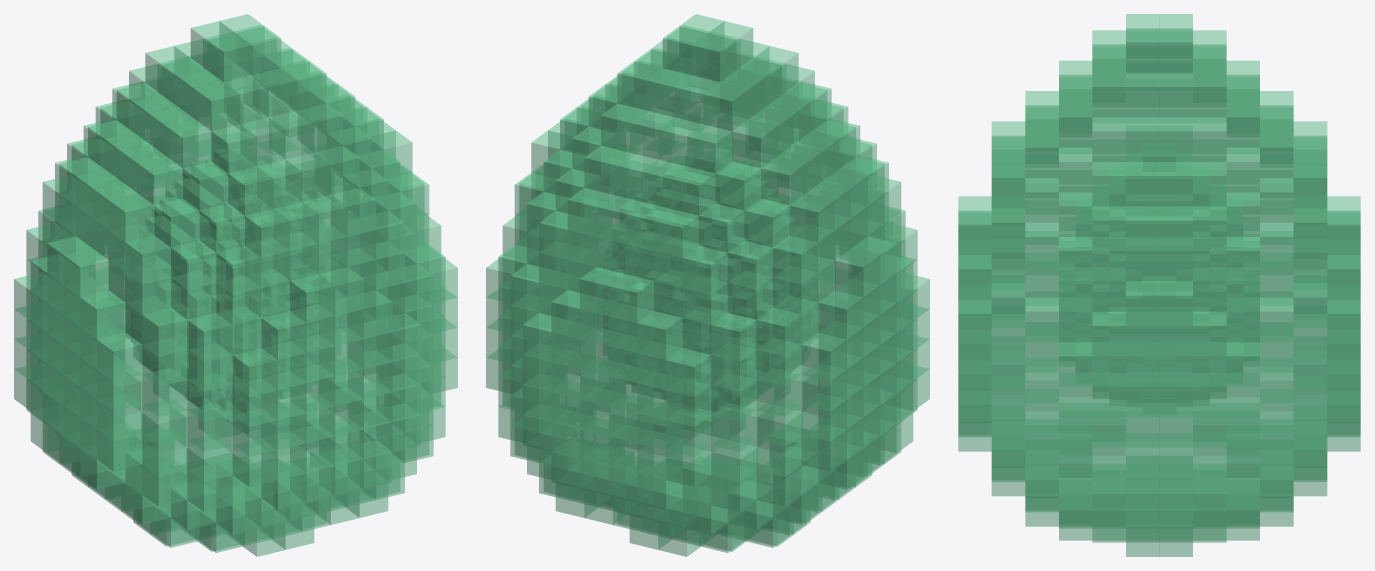
Rendered from Gummy_Egg.glb.
3 views of the same model, side by side, from view 1: azimuth 30°, elevation 25°; view 2: azimuth 150°, elevation 25°; view 3: azimuth 270°, elevation 25° (orthographic).
Visible parts, largest first — view 1: Cube_copy_copy_copy_copy_copy_copy_copy_copy_copy_copy_copy_ (×110), Cube_copy_1, Cube_copy_copy_copy_copy_copy_5, Cube_copy_copy_copy_6, Cube_copy_copy_copy, Cube_copy_4, Cube_copy_copy_copy_9, Cube_copy_copy_copy_2, Cube_copy_copy_copy_copy_copy_copy_copy_copy_copy, Cube_copy_copy_1, Cube_copy_copy_copy_copy, Cube_copy_copy_copy_copy_copy_copy (+91 smaller); view 2: Cube_copy_copy_copy_copy_copy_copy_copy_copy_copy_copy_copy_ (×109), Cube, Cube_copy_copy_copy_copy_copy_15, Cube_copy_copy_1, Cube_copy_copy_copy_20, Cube_copy_copy_copy_copy_copy_17, Cube_copy_copy_copy_copy_copy_copy_copy_25, Cube_copy_copy_4, Cube_copy_copy_copy, Cube_copy_copy_copy_copy_copy_copy_copy_copy_copy_copy_5, Cube_copy_copy_copy_copy_copy_copy_copy_copy_copy_13, Cube_copy_copy_copy_3 (+92 smaller); view 3: Cube_copy_copy_copy_copy_copy_copy_copy_copy_copy_copy_copy_ (×137), Cube_copy_copy_copy_copy_copy_copy_12, Cube_copy_copy_copy_copy_copy_copy_copy_copy_copy_copy_2, Cube_copy_5, Cube_copy_copy_12, Cube_copy_copy_copy_copy_copy_copy_19, Cube_copy_copy_copy_copy_6, Cube_copy_copy_copy_copy_18, Cube_copy_copy_copy_copy_copy_10, Cube_copy_copy_copy_copy_copy_copy_copy_copy_copy_2, Cube_copy_copy_copy_copy_copy_copy_copy_12, Cube_copy_copy_copy_copy_copy_copy_copy_copy_copy_4 (+90 smaller).
Boxes of the visible parts, x1,y1,x2,y2 form: Cube_copy_copy_copy_copy_copy_copy_copy_copy_copy_copy_copy_ (×110): (26, 14, 445, 556); Cube_copy_1: (80, 290, 125, 339); Cube_copy_copy_copy_copy_copy_5: (142, 308, 187, 356); Cube_copy_copy_copy_6: (290, 274, 335, 322); Cube_copy_copy_copy: (63, 248, 108, 297); Cube_copy_4: (261, 311, 306, 359); Cube_copy_copy_copy_9: (232, 348, 277, 396); Cube_copy_copy_copy_2: (97, 332, 142, 381); Cube_copy_copy_copy_copy_copy_copy_copy_copy_copy: (125, 235, 170, 284); Cube_copy_copy_1: (47, 236, 92, 284); Cube_copy_copy_copy_copy: (97, 363, 142, 411); Cube_copy_copy_copy_copy_copy_copy: (97, 423, 142, 471); Cube_copy_copy_copy_copy_copy_copy_copy_copy_copy_copy_copy_ (×109): (510, 14, 884, 556); Cube: (818, 290, 863, 339); Cube_copy_copy_copy_copy_copy_15: (608, 274, 653, 322); Cube_copy_copy_1: (835, 248, 880, 297); Cube_copy_copy_copy_20: (637, 311, 682, 359); Cube_copy_copy_copy_copy_copy_17: (666, 348, 711, 396); Cube_copy_copy_copy_copy_copy_copy_copy_25: (711, 313, 756, 361); Cube_copy_copy_4: (801, 332, 846, 381); Cube_copy_copy_copy: (851, 236, 896, 284); Cube_copy_copy_copy_copy_copy_copy_copy_copy_copy_copy_5: (682, 276, 727, 324); Cube_copy_copy_copy_copy_copy_copy_copy_copy_copy_13: (711, 433, 756, 481); Cube_copy_copy_copy_3: (801, 363, 846, 411); Cube_copy_copy_copy_copy_copy_copy_copy_copy_copy_copy_copy_ (×137): (991, 14, 1327, 556); Cube_copy_copy_copy_copy_copy_copy_12: (991, 283, 1025, 327); Cube_copy_copy_copy_copy_copy_copy_copy_copy_copy_copy_2: (991, 208, 1025, 252); Cube_copy_5: (1092, 311, 1125, 356); Cube_copy_copy_12: (1193, 311, 1226, 356); Cube_copy_copy_copy_copy_copy_copy_19: (1260, 297, 1293, 342); Cube_copy_copy_copy_copy_6: (958, 299, 991, 344); Cube_copy_copy_copy_copy_18: (1327, 299, 1360, 344); Cube_copy_copy_copy_copy_copy_10: (991, 314, 1025, 358); Cube_copy_copy_copy_copy_copy_copy_copy_copy_copy_2: (991, 239, 1025, 283); Cube_copy_copy_copy_copy_copy_copy_copy_12: (991, 375, 1025, 419); Cube_copy_copy_copy_copy_copy_copy_copy_copy_copy_4: (991, 435, 1025, 479).
Bounding box in the file's own units: 1.2 × 1.6 × 1.2.
